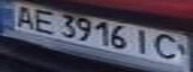1: (90, 19, 112, 46)
3: (54, 11, 78, 39)
6: (109, 24, 130, 51)
9: (72, 16, 93, 43)
A: (9, 2, 39, 29)
C: (151, 32, 187, 62)
E: (30, 7, 60, 34)
I: (130, 27, 157, 56)
